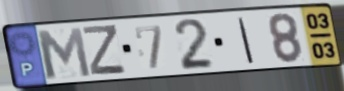2: (173, 17, 217, 72)
7: (134, 24, 165, 70)
8: (266, 11, 305, 64)
I: (236, 16, 257, 65)
M: (33, 25, 94, 80)
Z: (80, 22, 128, 76)
